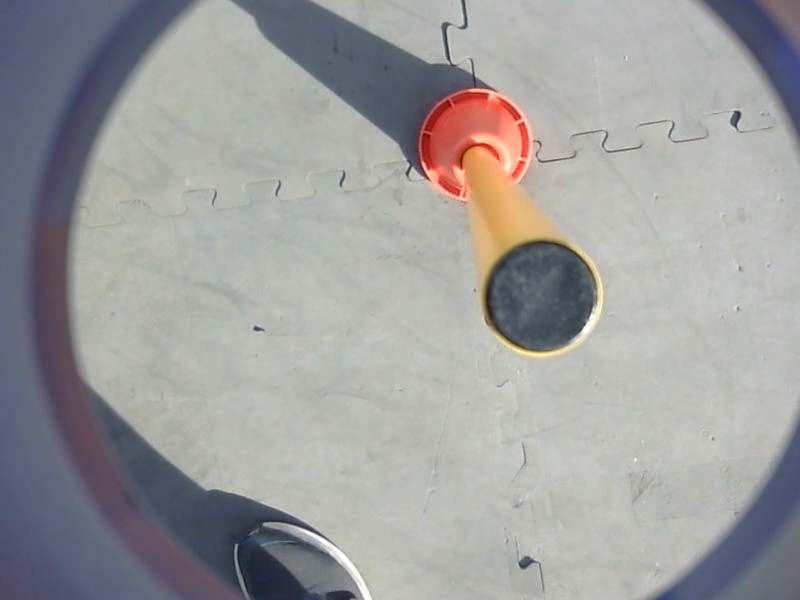tip: (477, 230, 609, 362)
